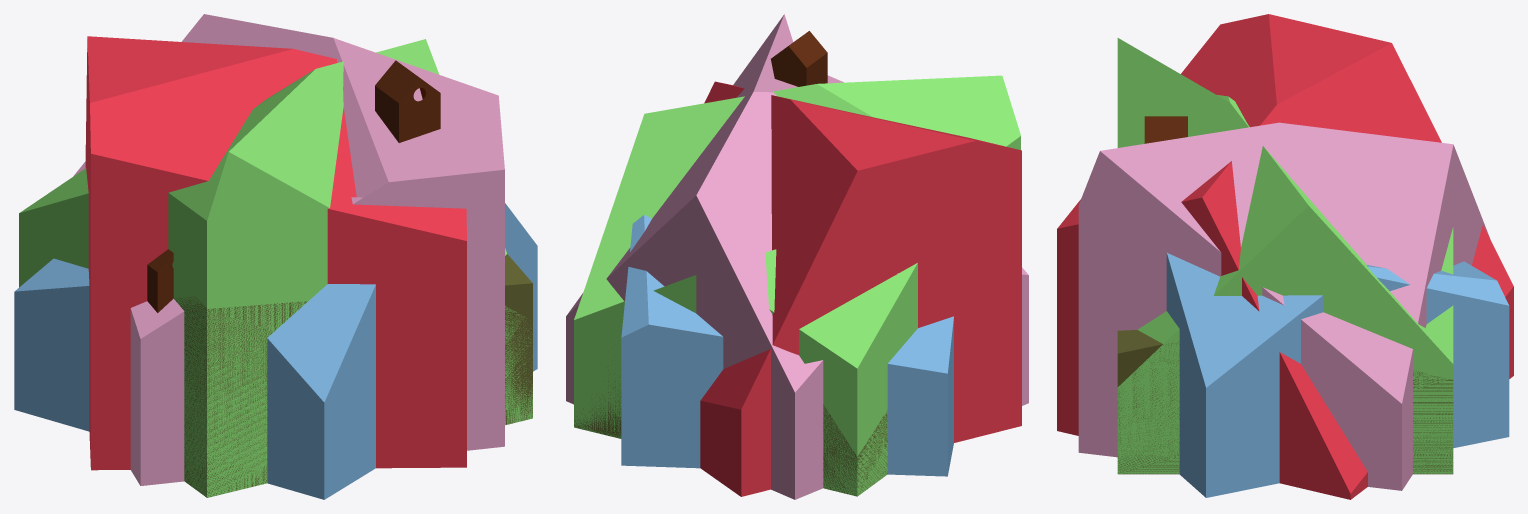
Rendered from rocks3.glb.
The picture shows the model from 3 angles, left to right: view 1: azimuth 30°, elevation 25°; view 2: azimuth 150°, elevation 25°; view 3: azimuth 270°, elevation 25°; orthographic projection. The views are drawn at different scales.
Visible parts, largest first — view 1: Cube.003, Cube.001, Cube, Cube.011, Cube.014, Cube.007, Cube.016; view 2: Cube.003, Cube.001, Cube.011, Cube, Cube.014, Cube.007; view 3: Cube.011, Cube.003, Cube.001, Cube, Cube.014, Cube.007.
Boxes of the visible parts, x1,y1,x2,y2 form: Cube.003: (85, 36, 466, 470); Cube.001: (19, 39, 532, 497); Cube: (14, 203, 537, 499); Cube.011: (73, 14, 504, 485); Cube.014: (130, 38, 504, 485); Cube.007: (174, 254, 532, 497); Cube.016: (147, 249, 173, 312); Cube.003: (700, 81, 1021, 496); Cube.001: (574, 75, 1020, 496); Cube.011: (566, 15, 1028, 499); Cube: (621, 215, 953, 476); Cube.014: (606, 14, 897, 499); Cube.007: (574, 364, 887, 496); Cube.011: (1078, 116, 1469, 490); Cube.003: (1057, 14, 1513, 499); Cube.001: (1117, 38, 1453, 474); Cube: (1166, 253, 1509, 497); Cube.014: (1086, 126, 1489, 490); Cube.007: (1117, 330, 1453, 474).
Size of the model in its own units: 2.72 by 2.07 by 2.72.
